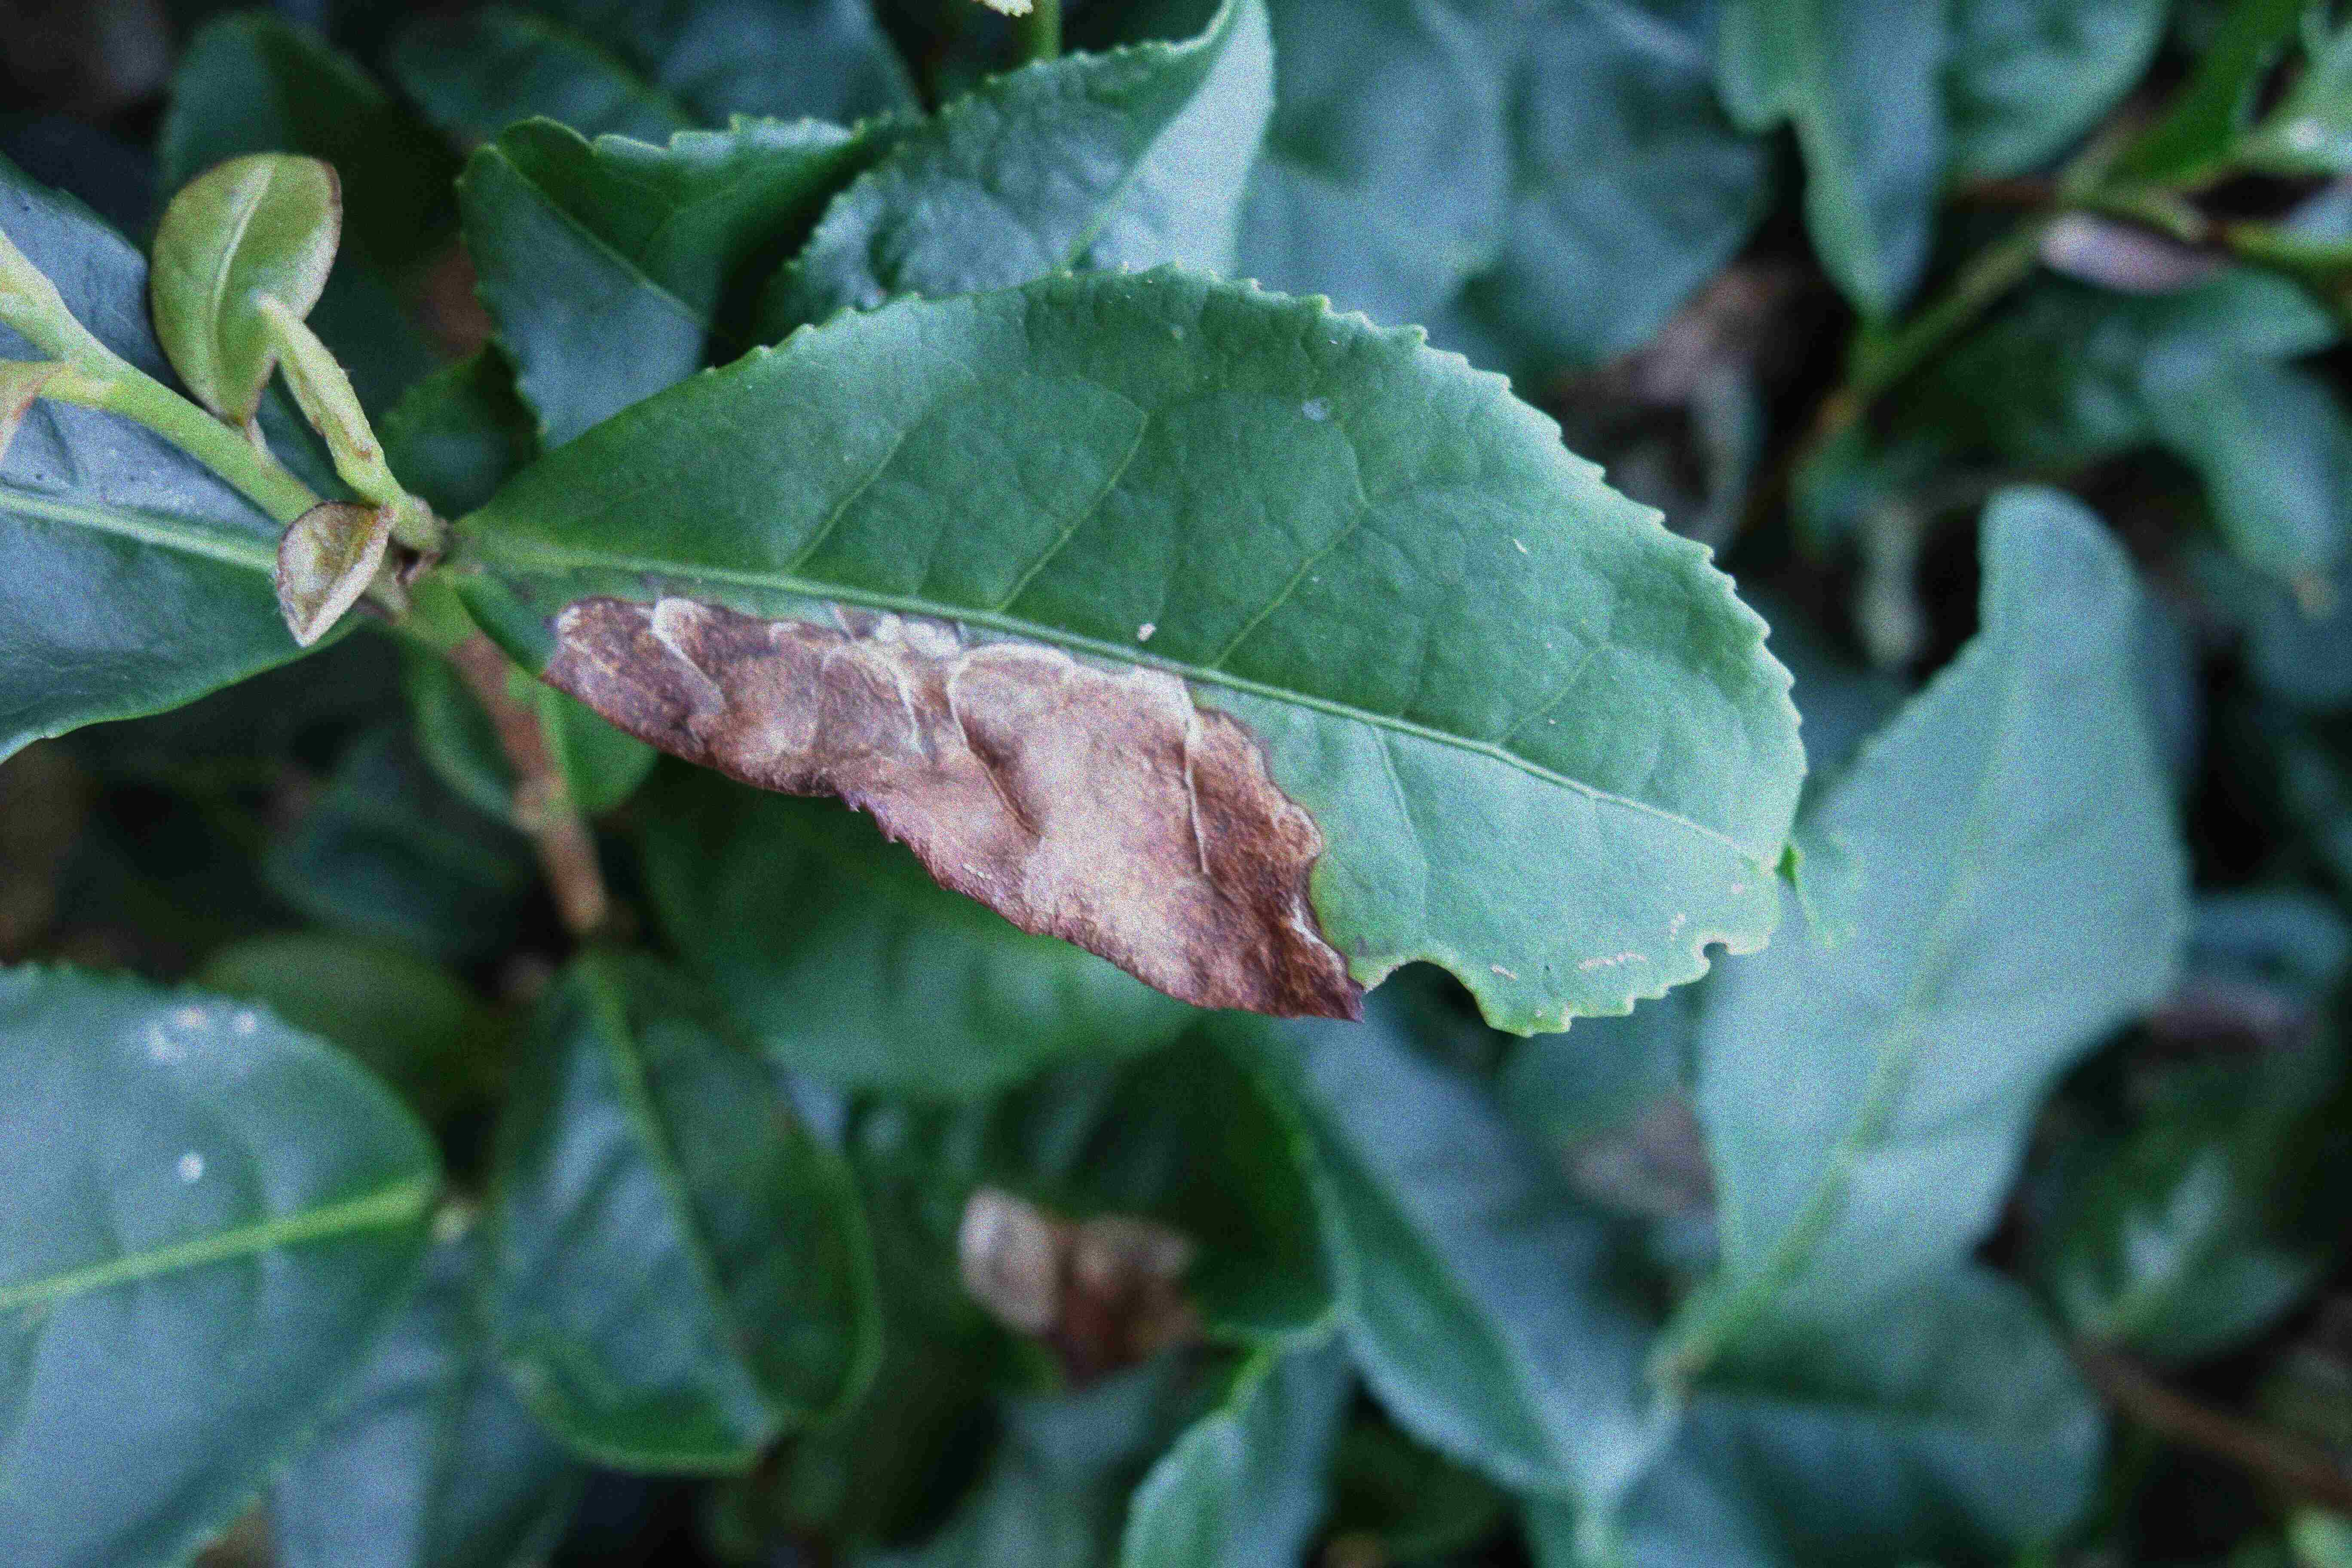tanju_high: (430, 262, 1813, 1039)
tanju_low: (150, 150, 348, 425)
